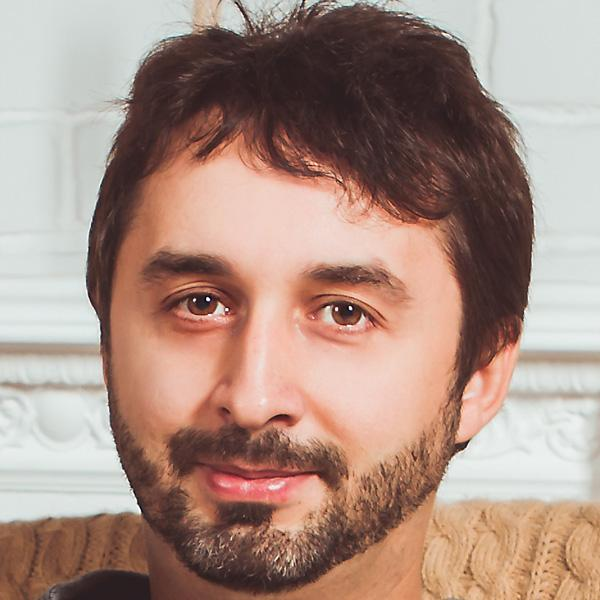Eyes: (294, 281, 392, 346), (145, 274, 242, 336)
